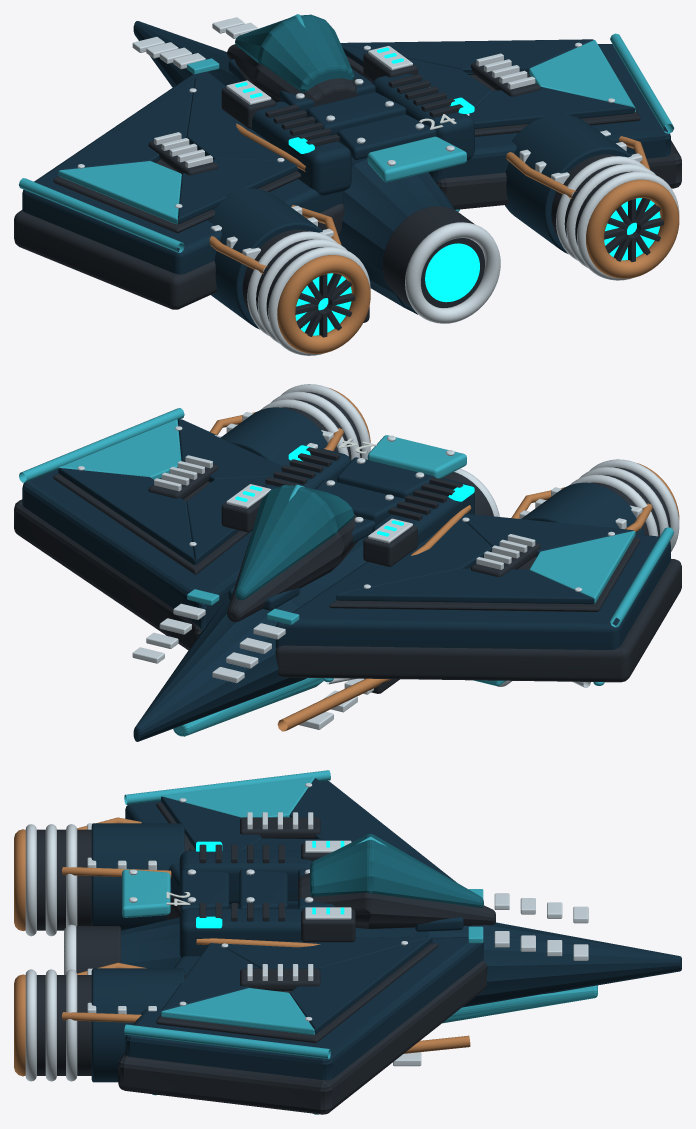
3 renders of one model, top to bottom at view 1: azimuth 30°, elevation 25°; view 2: azimuth 150°, elevation 25°; view 3: azimuth 270°, elevation 25°, orthographic. The views are drawn at different scales.
Visible parts, largest first — view 1: SolidHull_24; view 2: SolidHull_24; view 3: SolidHull_24.
Part boxes in pixels (x1,y1,x2,y2): SolidHull_24: (14, 14, 681, 355); SolidHull_24: (14, 384, 681, 741); SolidHull_24: (14, 770, 681, 1114).
Size of the model in its own units: 3.38 by 1.15 by 3.3.
